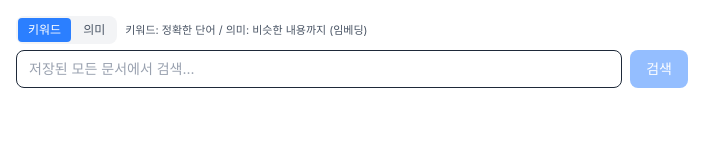
it: GlobalSearch › 의미 모드 + 클라우드 provider(openai) → 임베딩 전송 고지 배지 노출(#5)
This screenshot has width=705, height=160.
Expected: the text "OpenAI로 전송" is not shown
// 의미 모드로 전환 → 배지 노출
Step 1. Click the button "의미" → click(94, 30), box [73, 18, 115, 42]
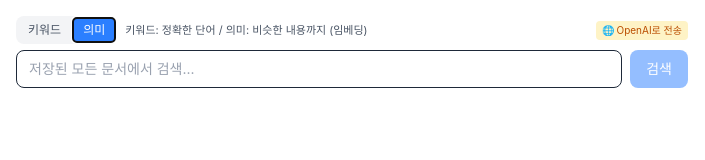
Now the text "🌐 OpenAI로 전송" is shown, box [596, 20, 688, 40]
